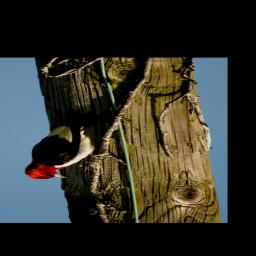Woodpecker: (24, 109, 114, 180)
